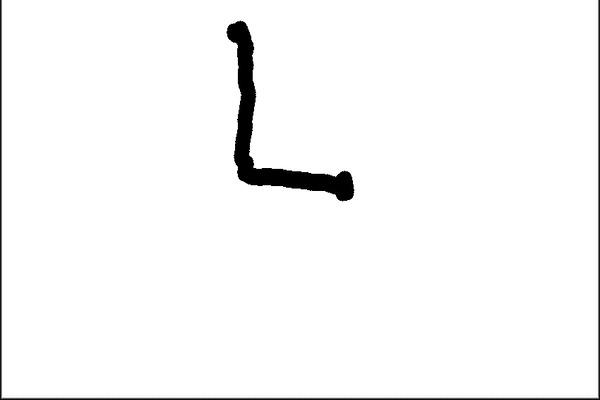L: (215, 14, 360, 204)
